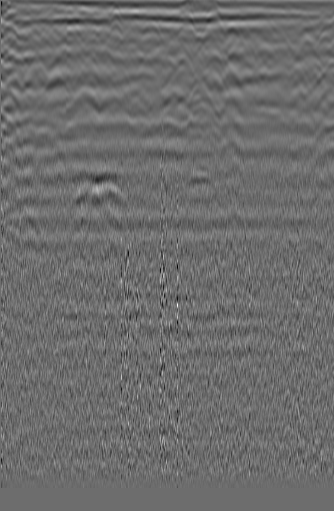상수: (285, 35, 323, 71)
오수: (15, 26, 52, 56)
우수: (131, 16, 168, 50)
